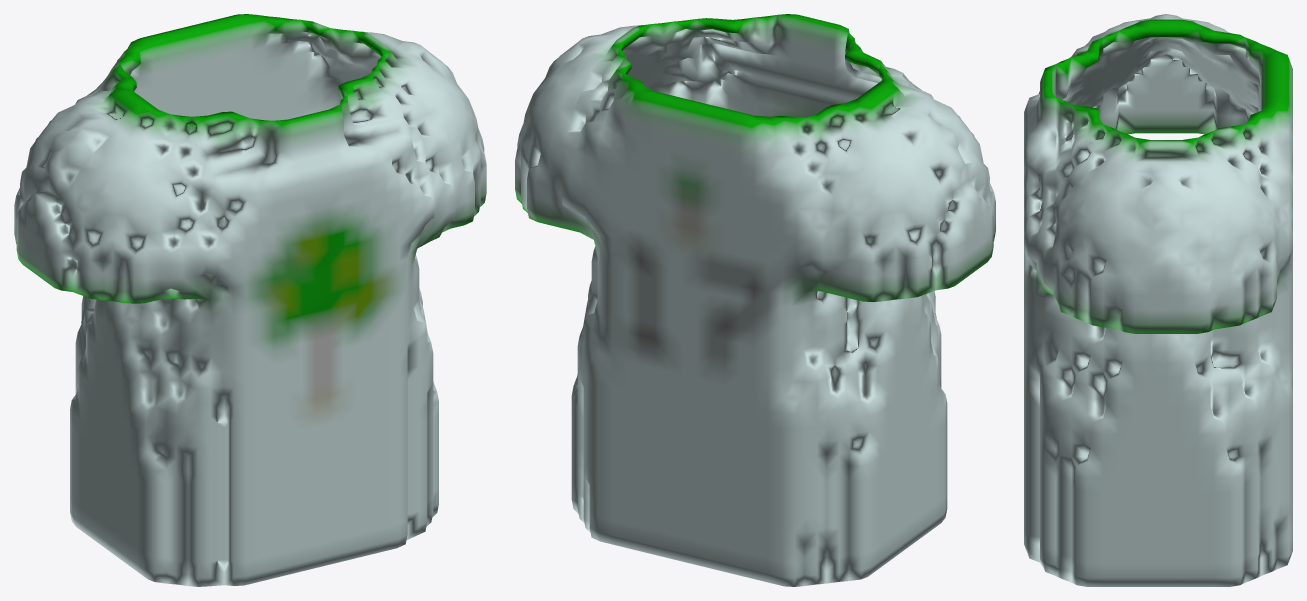
The picture shows the model from 3 angles, left to right: view 1: azimuth 30°, elevation 25°; view 2: azimuth 150°, elevation 25°; view 3: azimuth 270°, elevation 25°; orthographic projection. The views are drawn at different scales.
Size of the model in its own units: 1.55 by 1.54 by 0.85.
